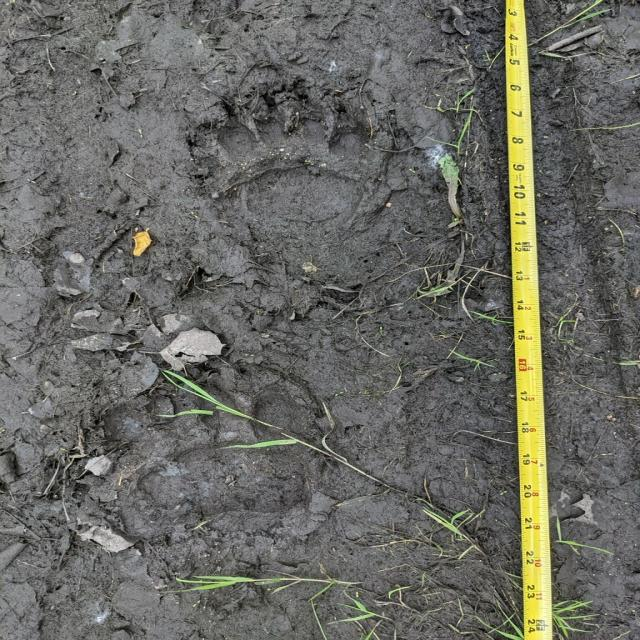bear: (192, 89, 395, 271), (100, 360, 322, 512)
